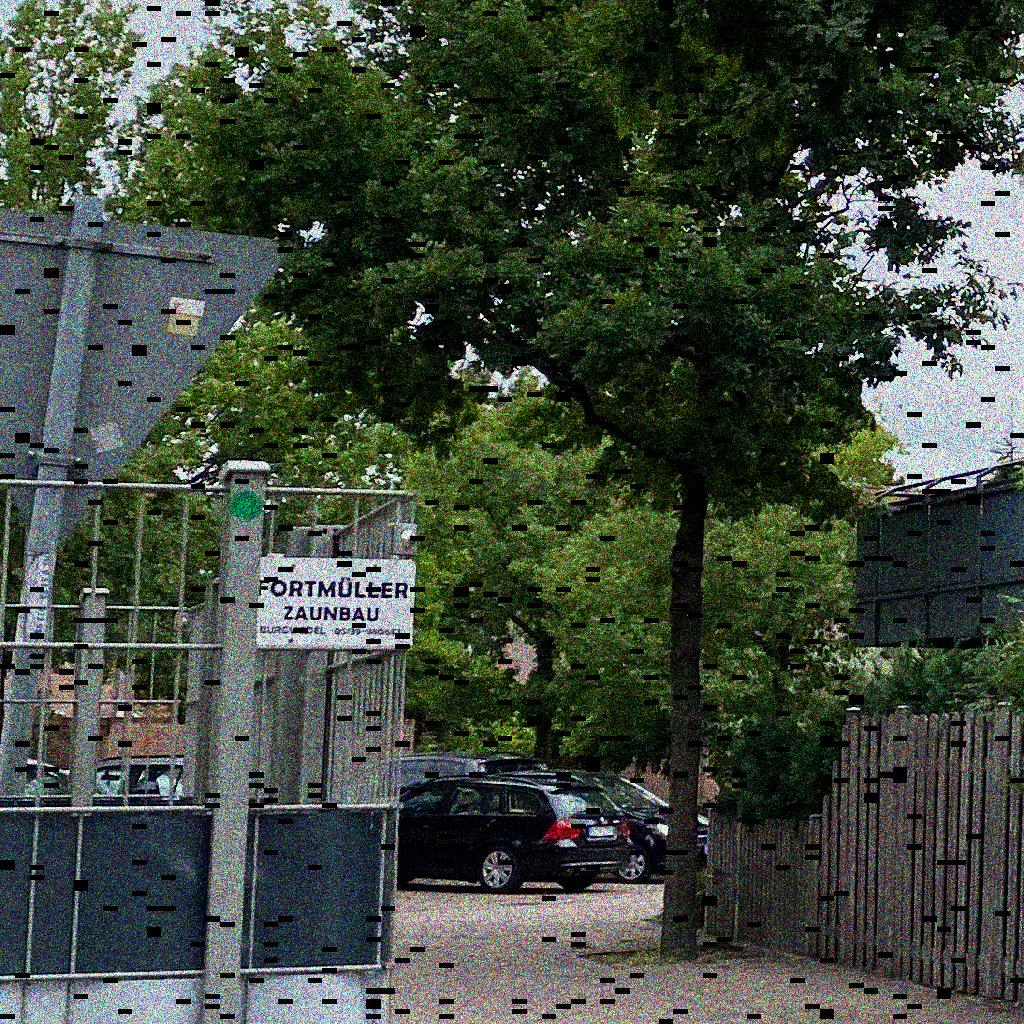tree: (343, 1, 1024, 965), (100, 1, 491, 455), (532, 424, 902, 766), (398, 364, 652, 761), (1, 1, 146, 218), (171, 317, 332, 462)
